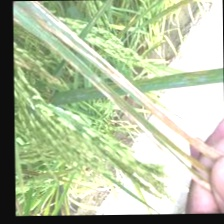Leaf_Blast: (113, 68, 216, 146)
